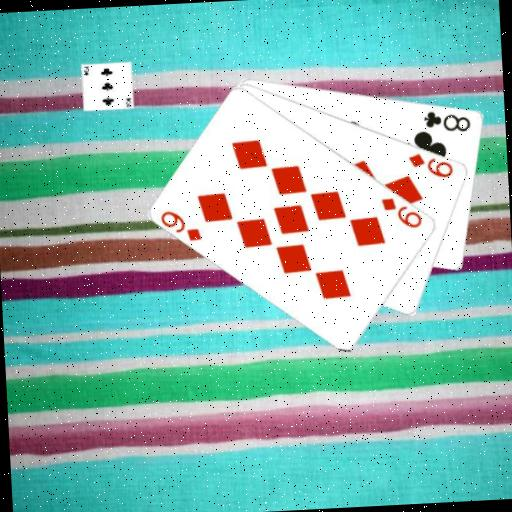8C: (421, 106, 473, 136)
9D: (378, 193, 425, 232), (158, 206, 205, 245), (406, 148, 456, 181)
